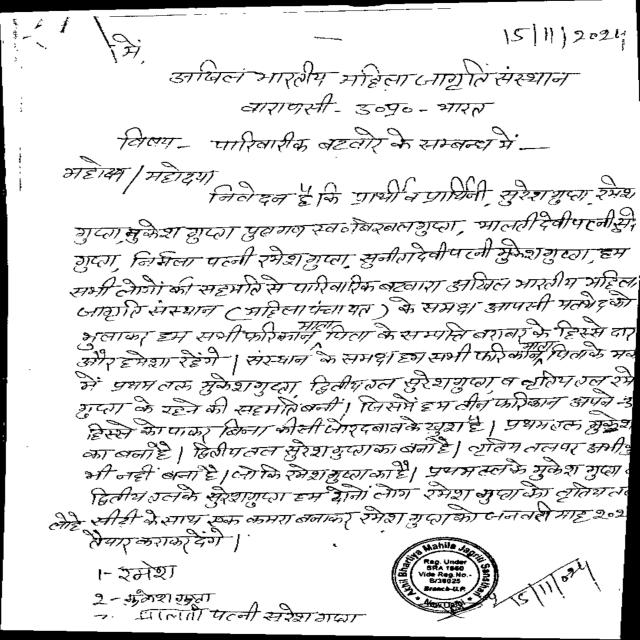logo: (387, 533, 503, 623)
